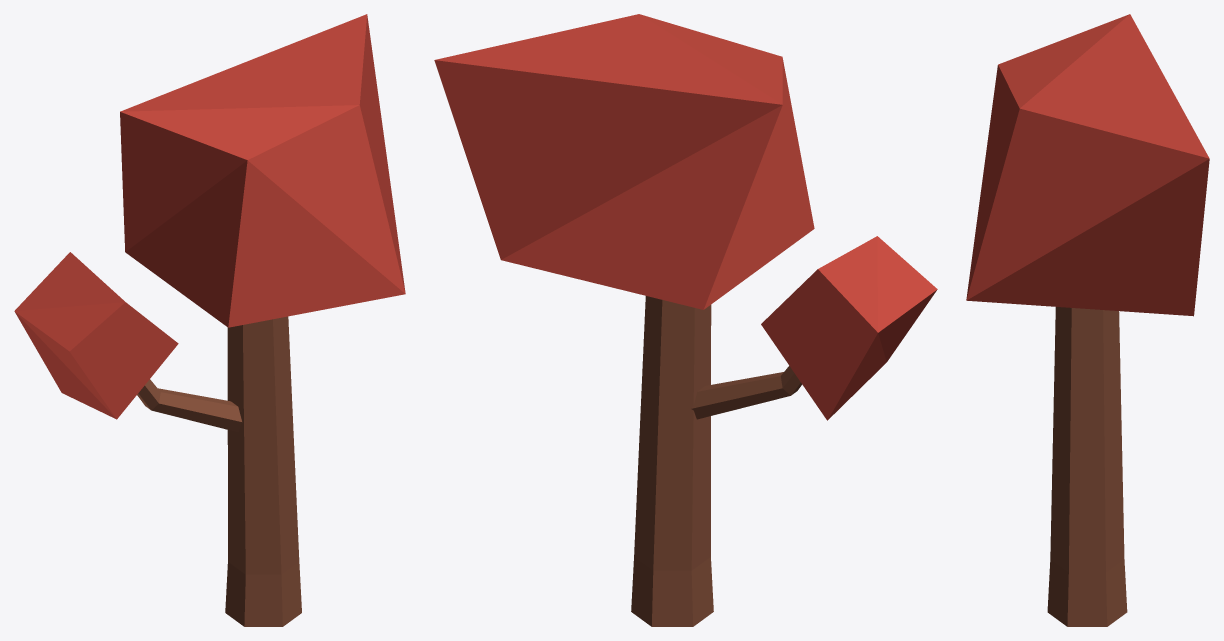
Rendered from Tree_45_summer_red_mat.fbx.
3 renders of one model, left to right at view 1: azimuth 30°, elevation 25°; view 2: azimuth 150°, elevation 25°; view 3: azimuth 270°, elevation 25°, orthographic. The views are drawn at different scales.
Visible parts, largest first — view 1: Tree_45_summer_red_mat; view 2: Tree_45_summer_red_mat; view 3: Tree_45_summer_red_mat.
Part boxes in pixels (box(x1,y1,x2,y2)): Tree_45_summer_red_mat: box(14, 14, 405, 626); Tree_45_summer_red_mat: box(434, 14, 937, 626); Tree_45_summer_red_mat: box(966, 14, 1209, 626).
Bounding box in the file's own units: 139 × 179 × 73.58.
